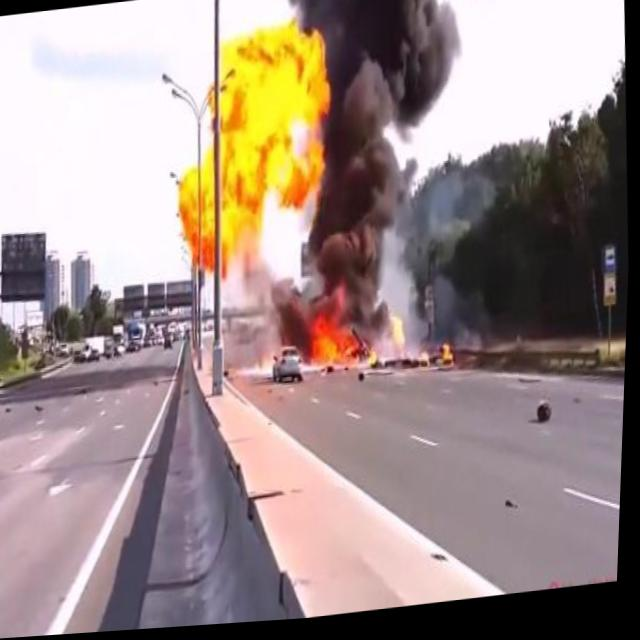fire: (163, 11, 345, 288), (312, 288, 386, 381), (421, 345, 462, 377), (391, 312, 410, 358)
